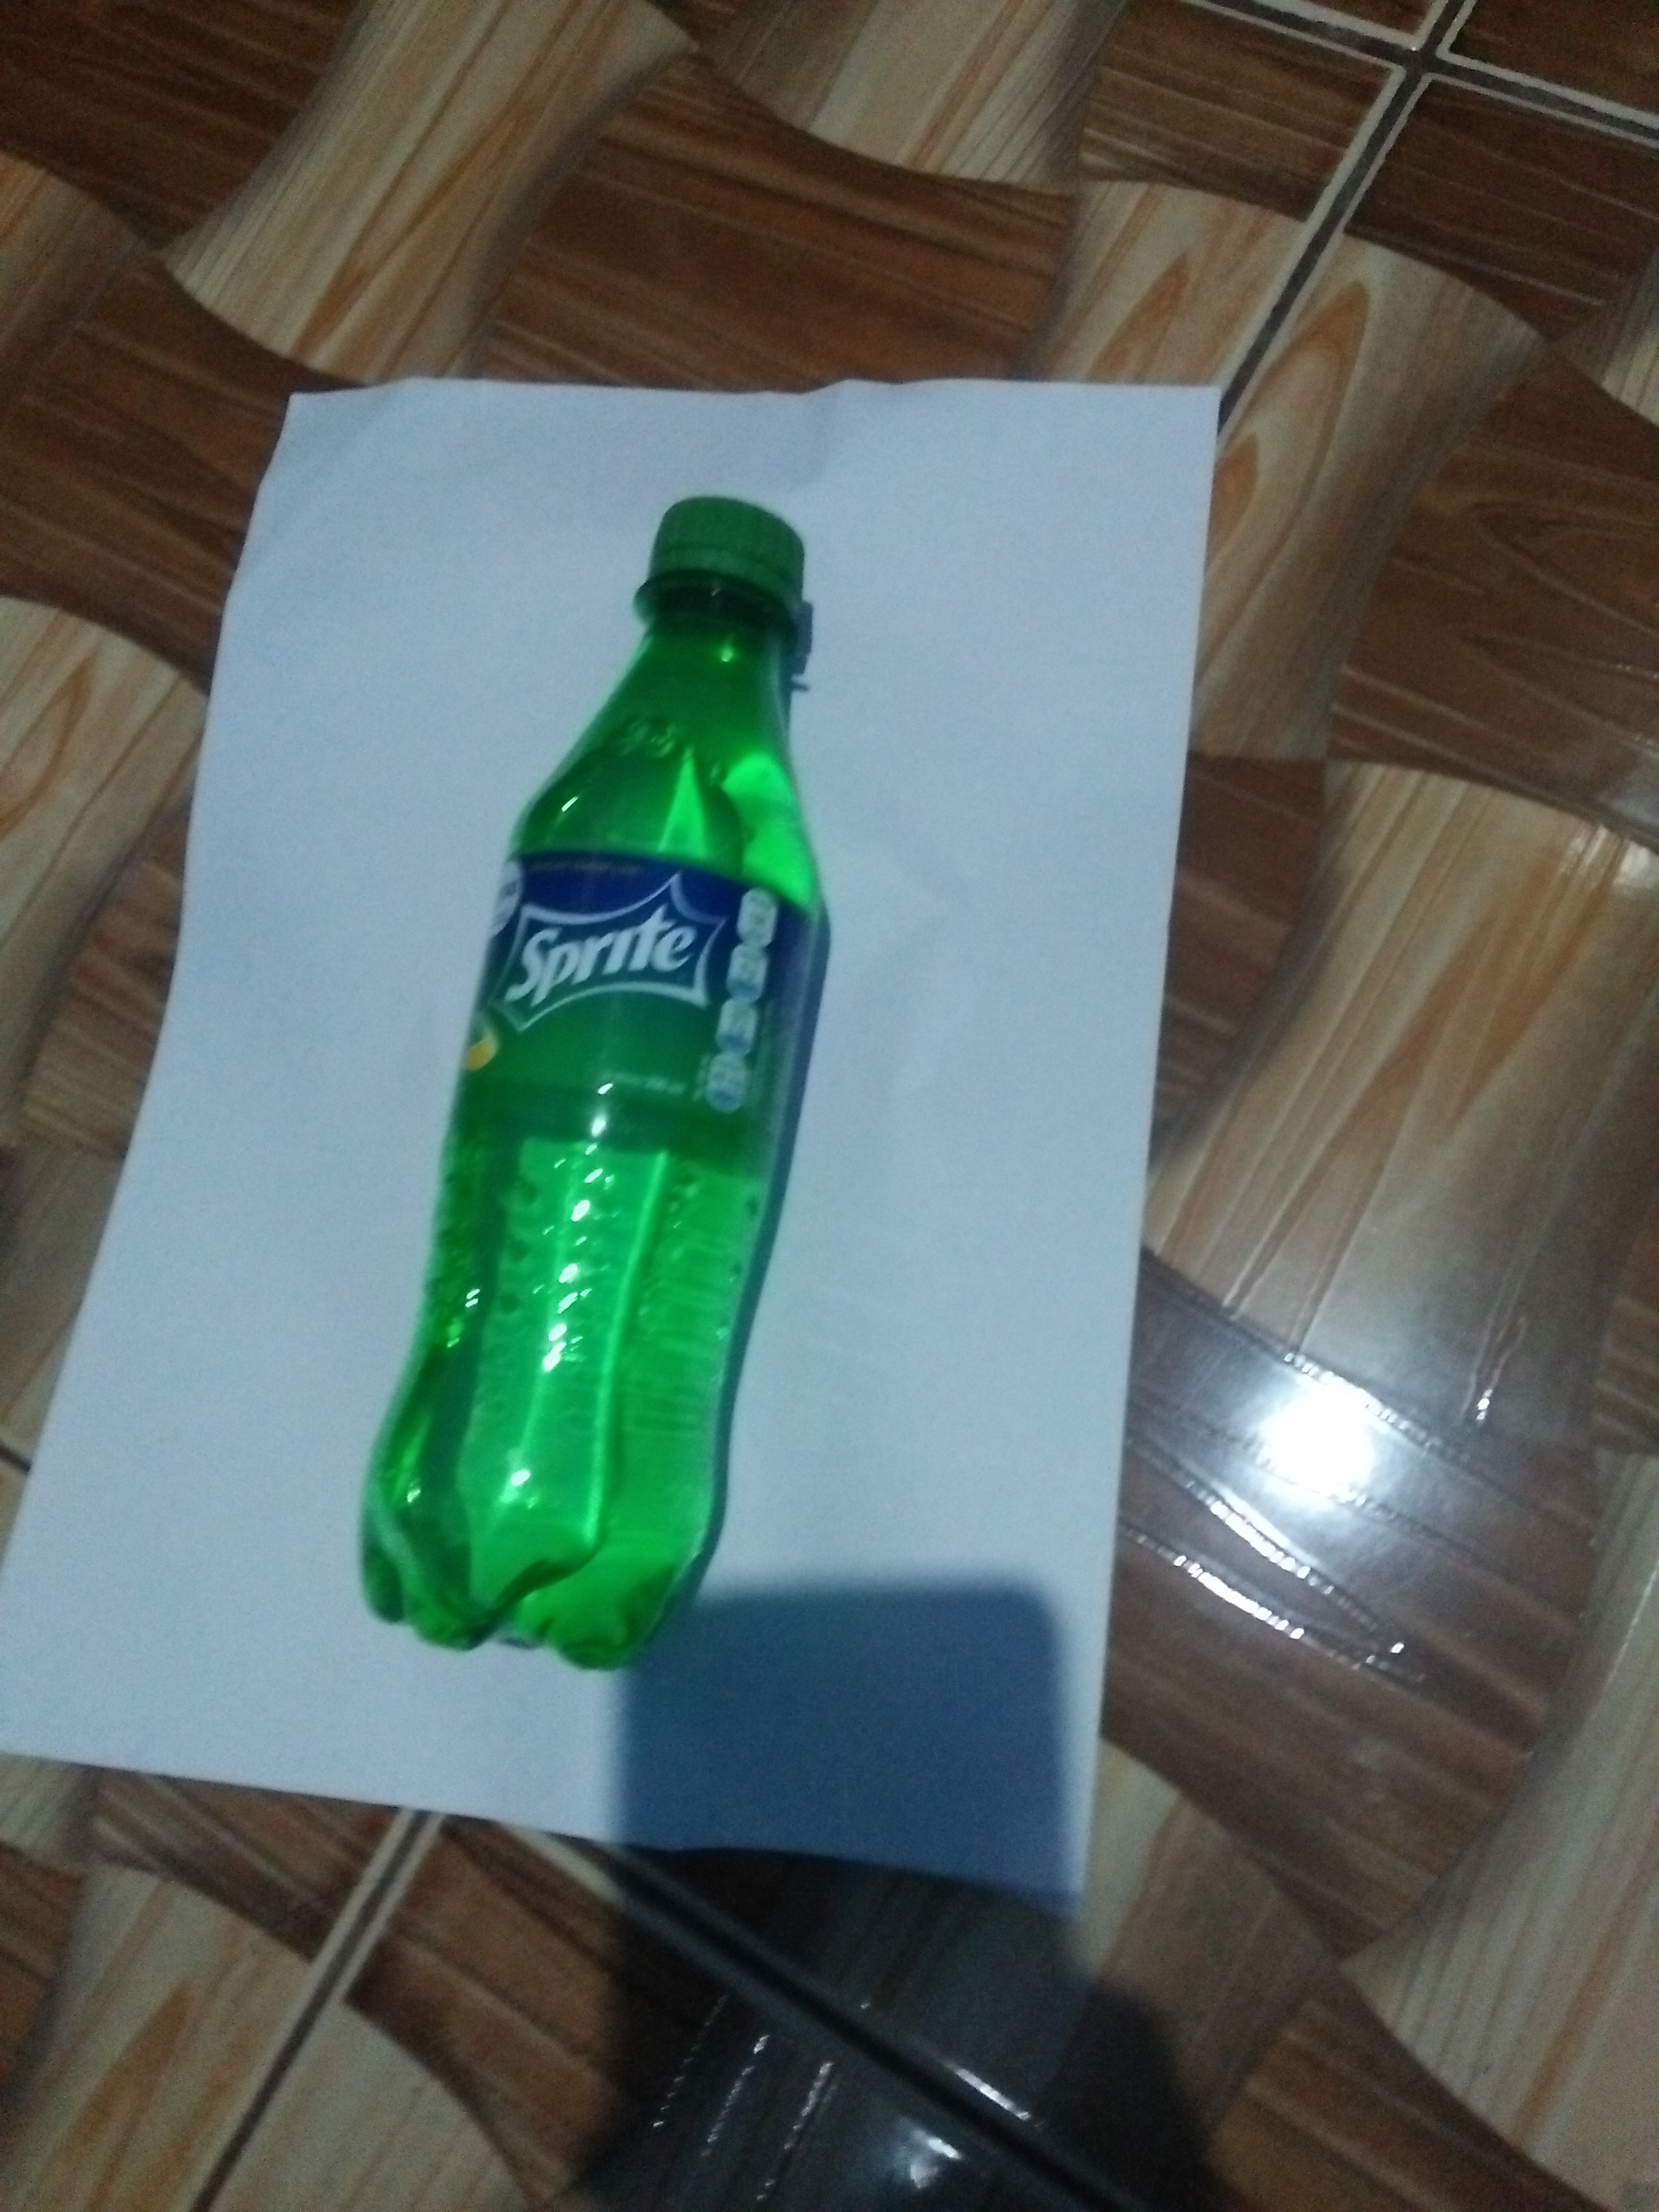Sprite: (336, 493, 863, 1689)
